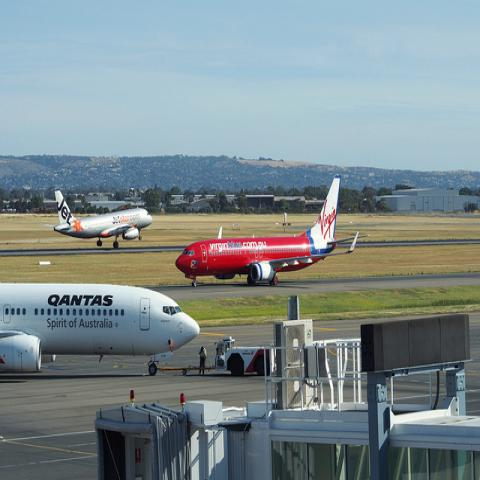truck: (214, 334, 265, 376)
